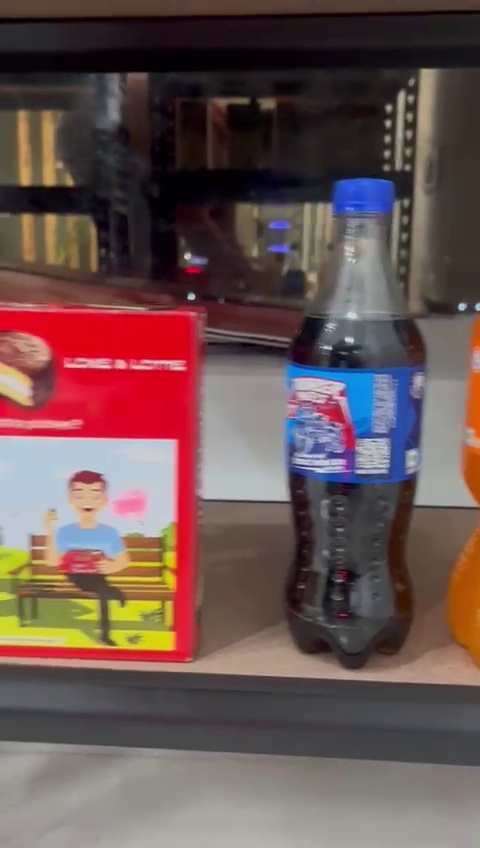Thums-up: (285, 174, 437, 654)
